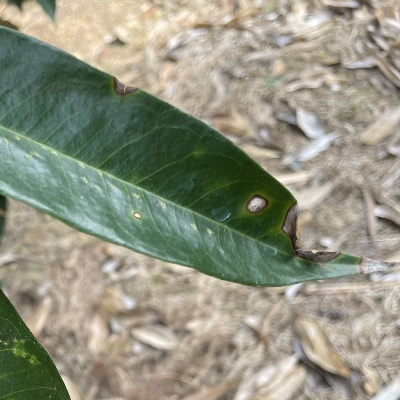Leaf_Phomopsis: (0, 18, 399, 292)
